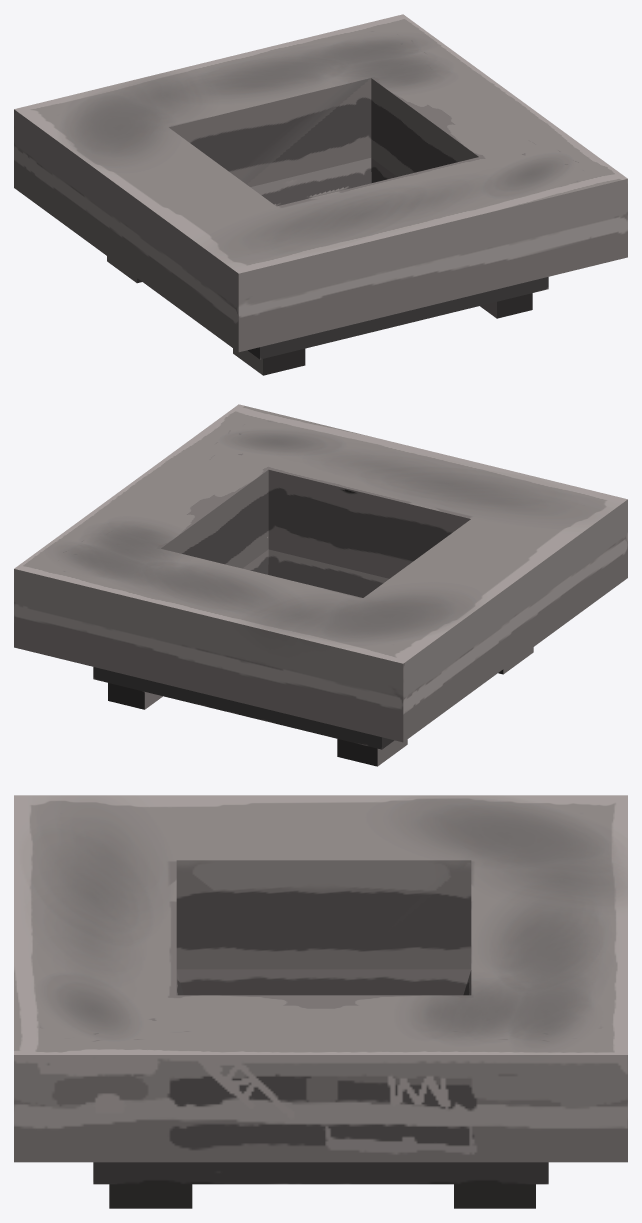
File: baselancamento.fbx
3 renders of one model, top to bottom at view 1: azimuth 30°, elevation 25°; view 2: azimuth 150°, elevation 25°; view 3: azimuth 270°, elevation 25°, orthographic. The views are drawn at different scales.
Visible parts, largest first — view 1: Base; view 2: Base; view 3: Base.
Part boxes in pixels (<box>): Base: <box>14,14,627,375</box>; Base: <box>14,404,627,766</box>; Base: <box>14,795,627,1208</box>.
Size of the model in its own units: 578 by 202 by 578.
